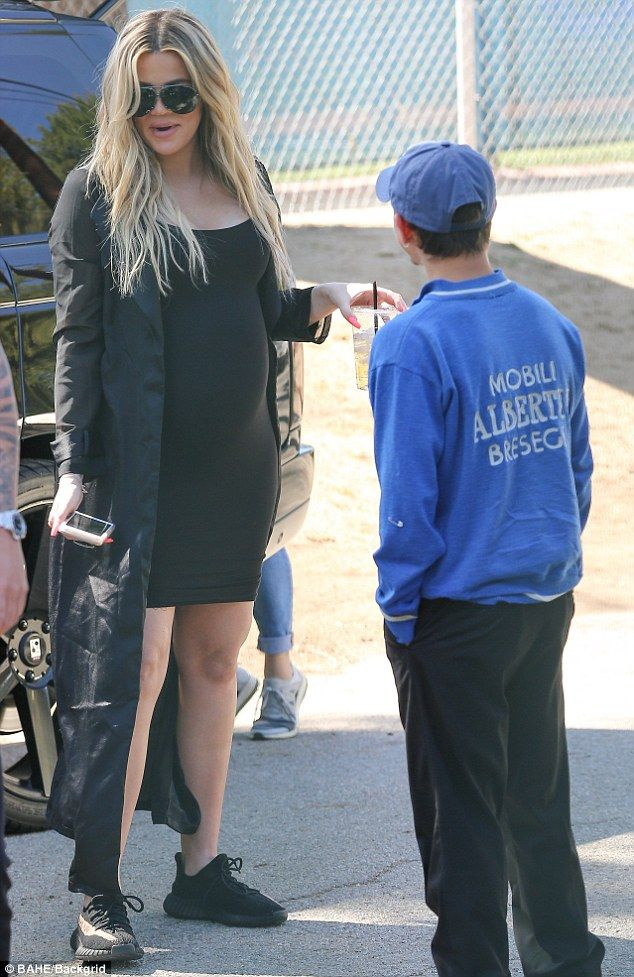Person: (44, 26, 364, 977), (370, 95, 605, 960)
